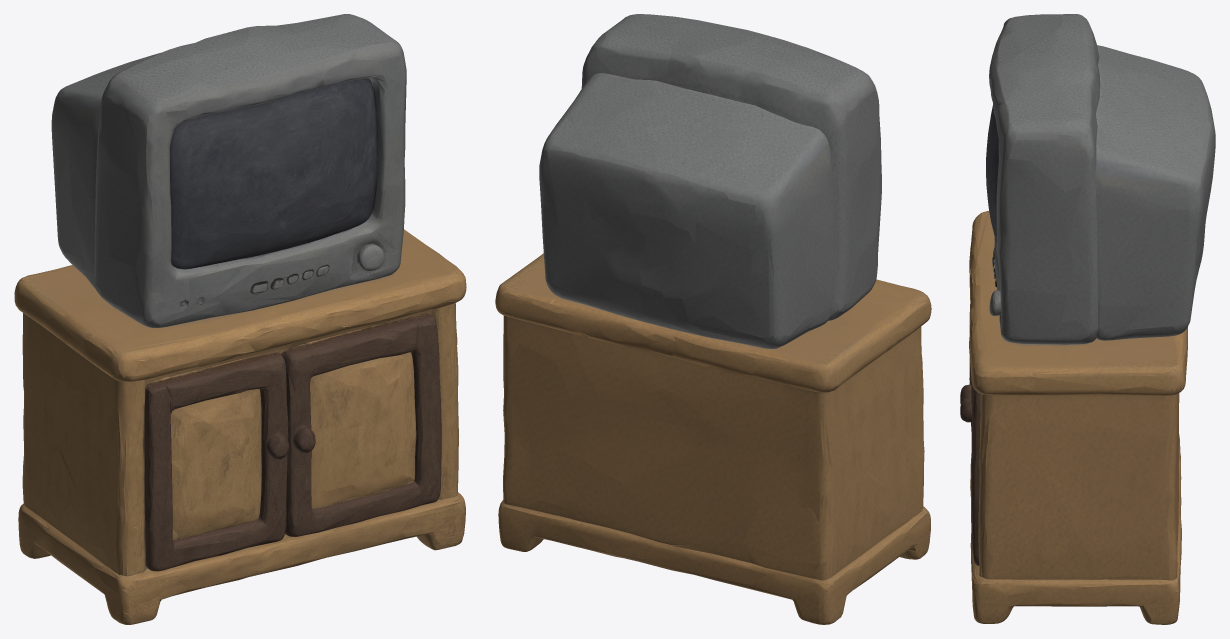
File: mobiletto_tv.glb
The picture shows the model from 3 angles, left to right: view 1: azimuth 30°, elevation 25°; view 2: azimuth 150°, elevation 25°; view 3: azimuth 270°, elevation 25°; orthographic projection. The views are drawn at different scales.
Parts seen in each view (by area): view 1: Mesh_0; view 2: Mesh_0; view 3: Mesh_0.
Part boxes in pixels (left/top/right/bottom): Mesh_0: left=14, top=14, right=466, bottom=624; Mesh_0: left=495, top=14, right=931, bottom=624; Mesh_0: left=960, top=14, right=1215, bottom=624.
Size of the model in its own units: 1.37 by 1.9 by 0.9017.
Materials: 1 (1 with a texture image).
